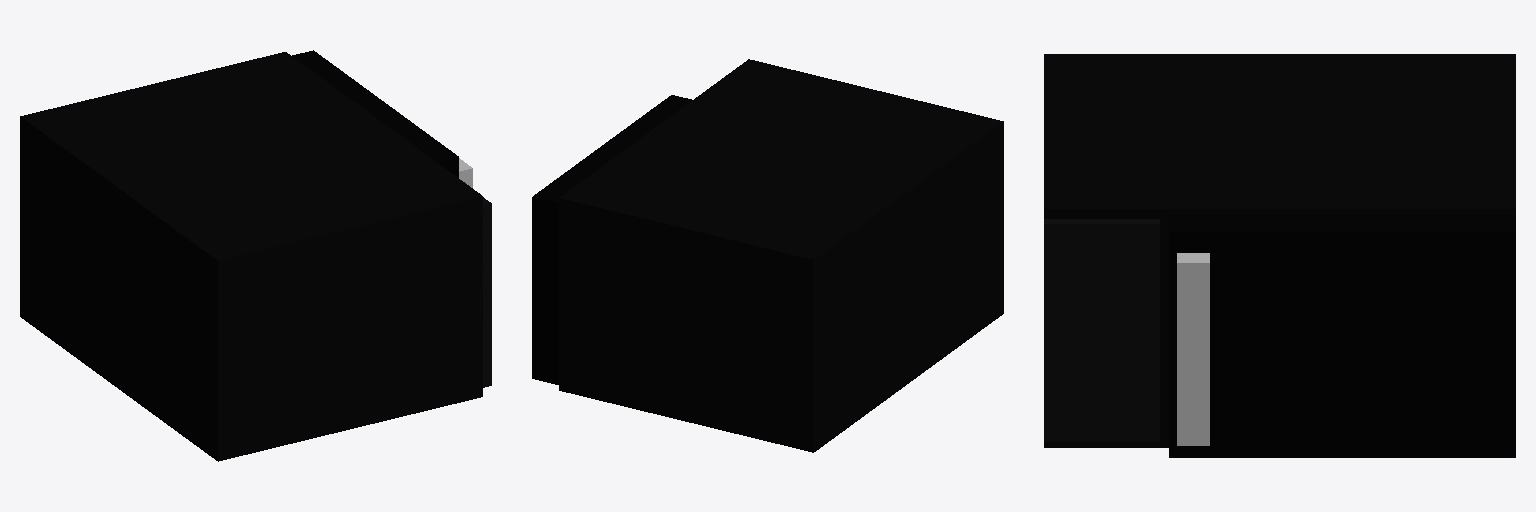
robot.urdf — samsung_microwave:
<?xml version="1.0"?>
<robot name="samsung_microwave">
  <!-- fixed world to hold microwave in place in MuJoCo -->
  <link name="world"/>
  <link name="base_link">
    <inertial>
      <origin xyz="0 0 0" rpy="0 0 0"/>
      <mass value="12.0"/>
      <inertia ixx="0.316" ixy="0.0" ixz="0.0" iyy="0.22" iyz="0.0" izz="0.385"/>
    </inertial>
    <visual>
      <origin xyz="0 0 0" rpy="0 0 0"/>
      <geometry>
        <!-- x=depth(forward), y=width(left+), z=height -->
        <box size="0.38 0.49 0.275"/>
      </geometry>
      <material name="black">
        <color rgba="0.05 0.05 0.05 1.0"/>
      </material>
    </visual>
    <visual>
      <!-- front control panel strip on right side -->
      <origin xyz="0.192 -0.185 0" rpy="0 0 0"/>
      <geometry>
        <box size="0.02 0.12 0.25"/>
      </geometry>
      <material name="black_glass">
        <color rgba="0.08 0.08 0.08 1.0"/>
      </material>
    </visual>
    <collision>
      <origin xyz="0 0 0" rpy="0 0 0"/>
      <geometry>
        <box size="0.38 0.49 0.275"/>
      </geometry>
    </collision>
  </link>

  <link name="door">
    <inertial>
      <origin xyz="0.02 -0.18 0" rpy="0 0 0"/>
      <mass value="2.0"/>
      <inertia ixx="0.0329" ixy="0.0" ixz="0.0" iyy="0.0115" iyz="0.0" izz="0.0219"/>
    </inertial>
    <!-- main door glass/frame -->
    <visual>
      <origin xyz="0.02 -0.18 0" rpy="0 0 0"/>
      <geometry>
        <!-- thickness x, width y, height z -->
        <box size="0.04 0.36 0.26"/>
      </geometry>
      <material name="door_black">
        <color rgba="0.03 0.03 0.03 1.0"/>
      </material>
    </visual>
    <!-- vertical silver handle on right edge of door -->
    <visual>
      <origin xyz="0.05 -0.335 0" rpy="0 0 0"/>
      <geometry>
        <box size="0.03 0.035 0.21"/>
      </geometry>
      <material name="silver">
        <color rgba="0.75 0.75 0.75 1.0"/>
      </material>
    </visual>
    <collision>
      <origin xyz="0.02 -0.18 0" rpy="0 0 0"/>
      <geometry>
        <box size="0.04 0.36 0.26"/>
      </geometry>
    </collision>
  </link>

  <joint name="world_fixed" type="fixed">
    <parent link="world"/>
    <child link="base_link"/>
    <origin xyz="0 0 0" rpy="0 0 0"/>
  </joint>

  <!-- left-side vertical hinge: door opens from right side -->
  <joint name="door_hinge" type="revolute">
    <parent link="base_link"/>
    <child link="door"/>
    <origin xyz="0.19 0.245 0" rpy="0 0 0"/>
    <axis xyz="0 0 1"/>
    <limit lower="0.0" upper="1.75" effort="20.0" velocity="1.5"/>
    <dynamics damping="0.2" friction="0.1"/>
  </joint>
</robot>

--- Facts derived from the render (not from the file) ---
Views: 3 orthographic renders of the robot side by side, from view 1: azimuth 30°, elevation 25°; view 2: azimuth 150°, elevation 25°; view 3: azimuth 270°, elevation 25°.
Robot: samsung_microwave — 3 links, 2 joints (1 revolute, 1 fixed); root link world; default pose: all joints at 0.
Visible links, largest first — view 1: base_link, door; view 2: base_link, door; view 3: base_link, door.
Link boxes in pixels (box(x1,y1,x2,y2)): base_link: box(20, 52, 491, 461); door: box(292, 50, 472, 187); base_link: box(559, 59, 1003, 452); door: box(532, 95, 691, 384); base_link: box(1044, 54, 1515, 447); door: box(1169, 215, 1515, 457).
Size in the robot's own frame: 0.445 by 0.49 by 0.275 metres.
Geometry: primitives only (box / cylinder / sphere), no mesh files.
